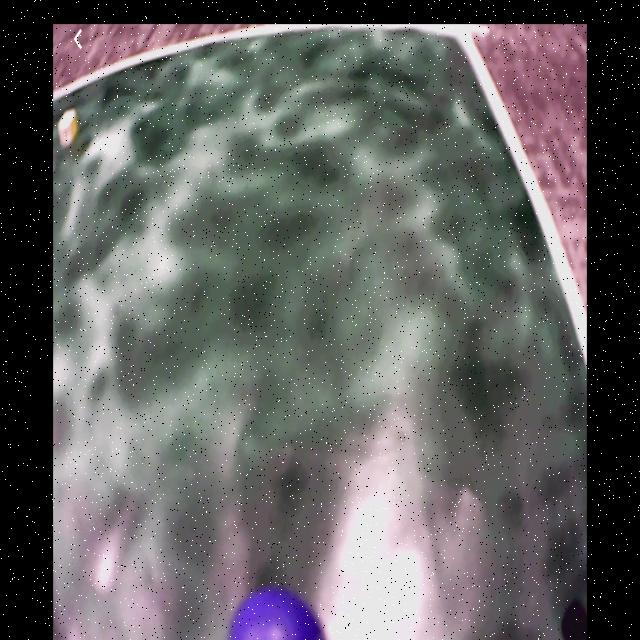ball: (230, 592, 326, 636)
